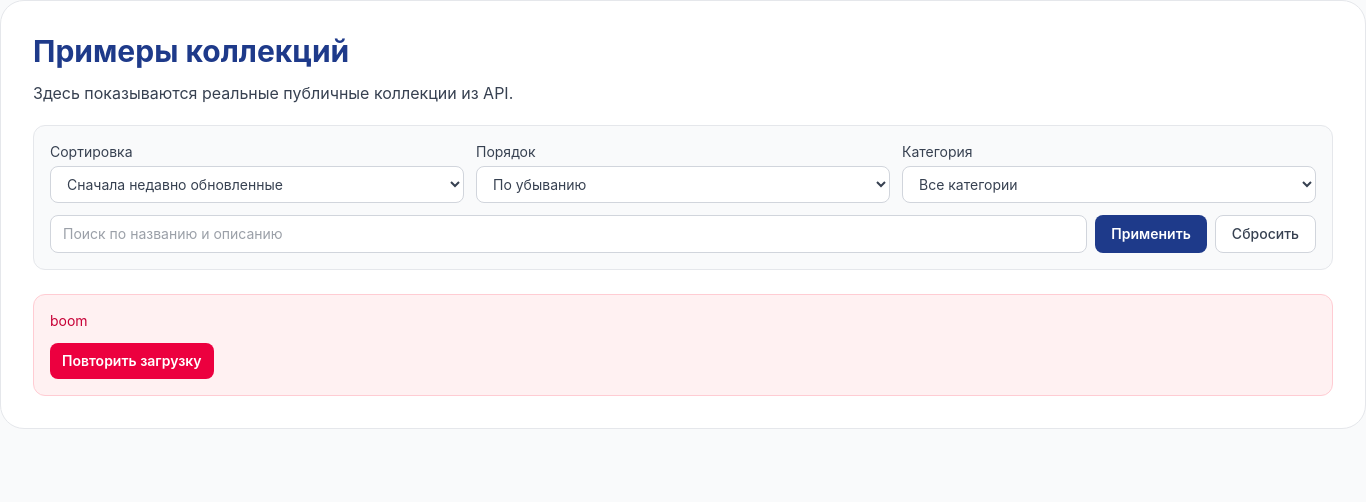
Scenario: ExamplesPage states › retries after error
Check: the message shows "boom", box [50, 312, 88, 329]
Click the button "Повторить загрузку" at (132, 361), box [50, 343, 214, 379]
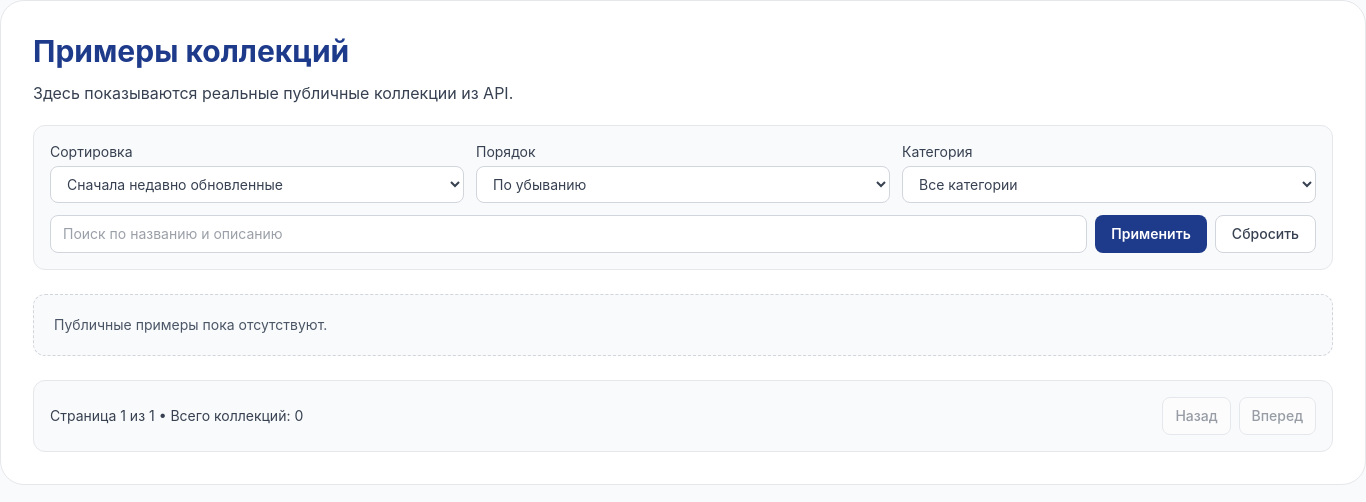
Check: the text "Публичные примеры пока отсутствуют." is shown, box [33, 294, 1333, 356]
